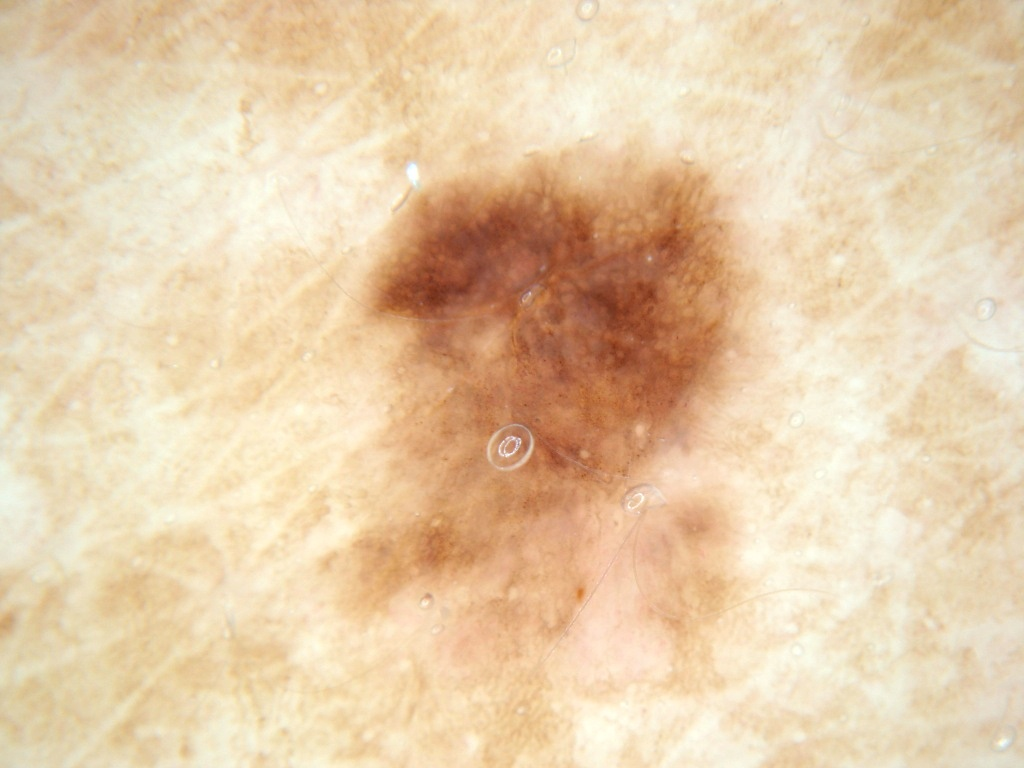Detected Lesion: (354, 143, 743, 631)
